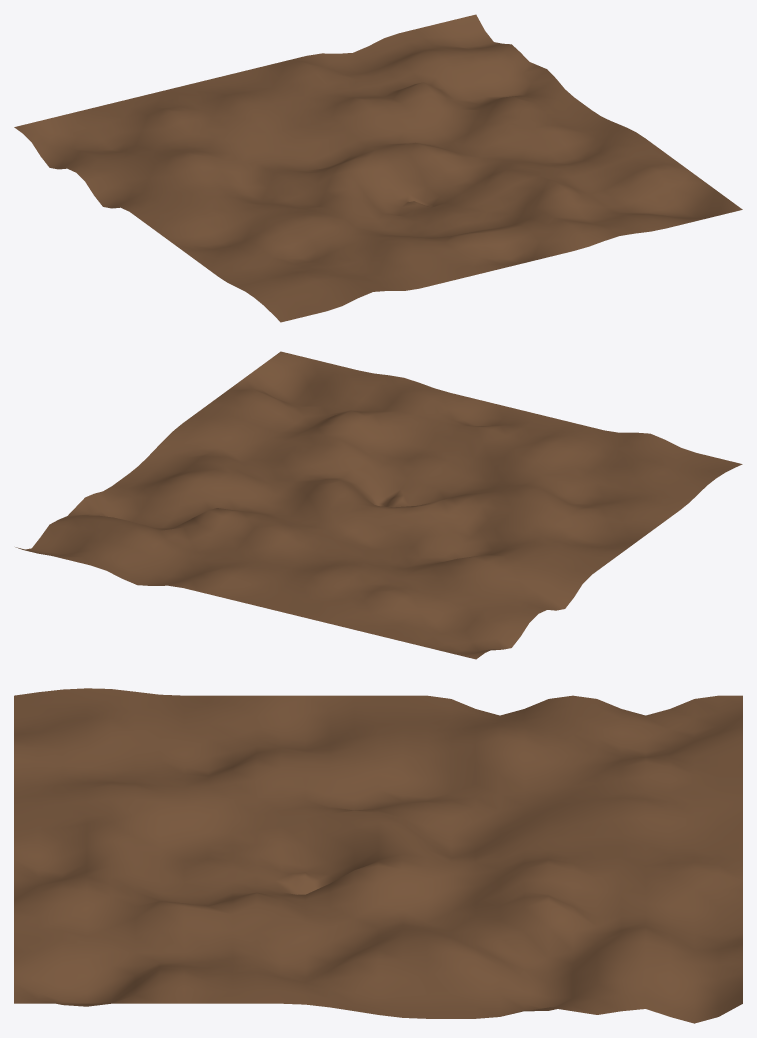
The model's file is Ground.fbx.
3 views of the same model, one above another, from view 1: azimuth 30°, elevation 25°; view 2: azimuth 150°, elevation 25°; view 3: azimuth 270°, elevation 25° (orthographic). The views are drawn at different scales.
Visible parts, largest first — view 1: pPlane1; view 2: pPlane1; view 3: pPlane1.
Boxes of the visible parts, x1,y1,x2,y2 form: pPlane1: (14, 14, 742, 322); pPlane1: (15, 351, 742, 659); pPlane1: (14, 688, 742, 1023).
Bounding box in the file's own units: 50 × 4.11 × 50.
